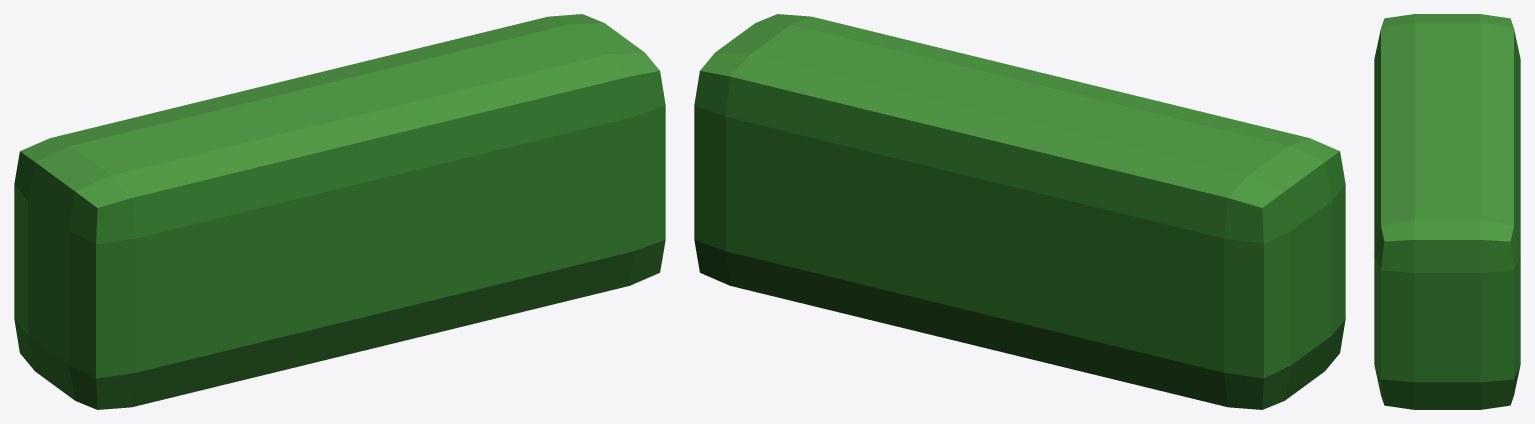
File: Garden_Hedge.glb
The picture shows the model from 3 angles, left to right: view 1: azimuth 30°, elevation 25°; view 2: azimuth 150°, elevation 25°; view 3: azimuth 270°, elevation 25°; orthographic projection. The views are drawn at different scales.
Visible parts, largest first — view 1: GardenHedge; view 2: GardenHedge; view 3: GardenHedge.
Part boxes in pixels (x1=…): GardenHedge: x1=14, y1=14, x2=665, y2=409; GardenHedge: x1=694, y1=14, x2=1345, y2=409; GardenHedge: x1=1374, y1=14, x2=1520, y2=409.
Size of the model in its own units: 3 by 1.1 by 0.8.
